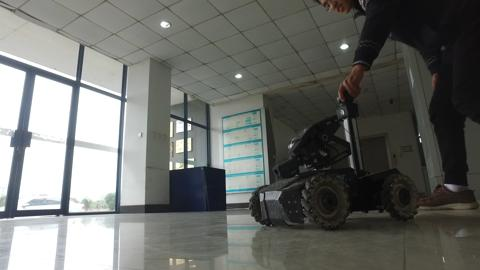chariot: (247, 86, 421, 237)
